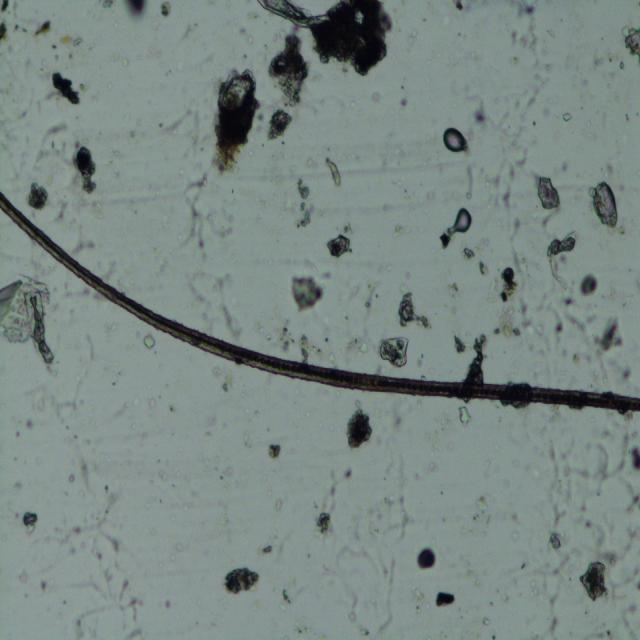Air bubble: (441, 124, 470, 159), (448, 205, 472, 238)
Background material: (35, 437, 143, 632), (162, 169, 238, 255), (529, 424, 589, 531), (318, 2, 394, 81), (510, 293, 596, 361), (207, 72, 262, 176), (473, 163, 525, 264), (353, 470, 404, 570), (180, 265, 244, 338), (17, 111, 77, 178), (266, 32, 314, 109), (346, 275, 382, 371), (0, 270, 40, 346), (504, 0, 548, 59), (544, 228, 580, 293), (584, 439, 620, 498), (272, 324, 316, 365), (578, 551, 610, 607), (588, 180, 621, 232), (347, 399, 378, 451), (70, 146, 100, 197), (287, 276, 325, 314), (222, 561, 260, 597), (464, 334, 489, 386), (203, 356, 238, 391), (493, 301, 522, 342), (293, 178, 315, 232), (51, 70, 82, 107), (400, 292, 429, 330), (536, 175, 564, 214), (378, 333, 408, 368), (264, 109, 292, 145), (595, 318, 625, 351), (273, 579, 303, 610), (313, 503, 335, 541), (469, 102, 496, 132), (26, 180, 50, 211), (256, 532, 278, 564), (498, 266, 516, 305), (327, 233, 351, 262), (622, 23, 640, 60), (578, 268, 600, 297), (323, 155, 342, 188), (547, 527, 569, 555), (20, 507, 40, 537), (126, 1, 150, 24), (417, 544, 437, 571), (140, 329, 158, 358), (266, 434, 284, 463), (626, 440, 640, 473), (437, 587, 457, 610), (455, 404, 472, 429), (269, 493, 289, 514), (58, 33, 84, 48), (458, 246, 478, 263), (33, 19, 51, 37), (452, 333, 466, 356), (475, 257, 491, 276), (438, 231, 449, 252), (396, 94, 412, 108), (0, 20, 9, 40), (448, 0, 464, 11), (162, 0, 170, 20), (0, 1, 11, 14), (103, 1, 113, 11)
Cellulose filter fibre: (22, 290, 58, 367), (260, 0, 327, 30)
Hair textile: (0, 190, 640, 417)
